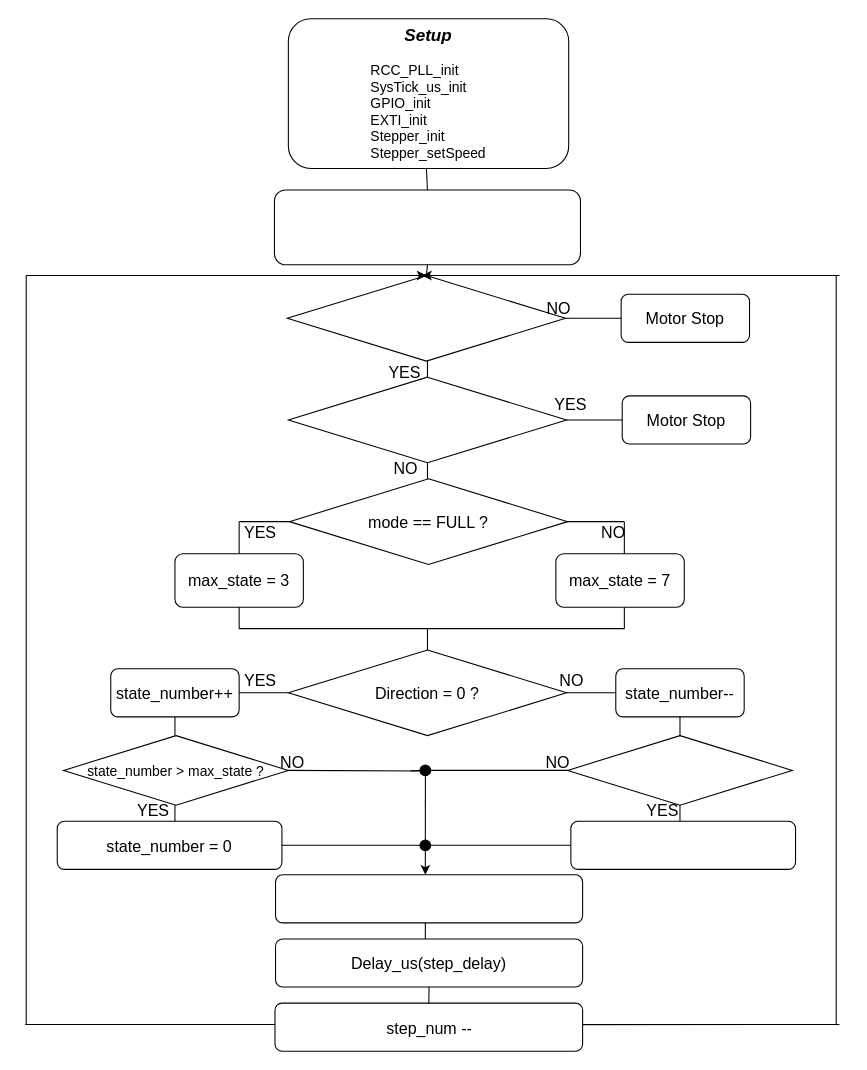
The diagram is 867 pixels wide and 1070 high, and some of its shapes have lost their labels. Each missing label, with the box of its shape:
Button Interrupt ?: (287, 376, 567, 463)
state_number < 0 ?: (567, 735, 792, 805)
state_number = max_state: (570, 820, 796, 869)
step_num > 0 ?: (286, 274, 565, 361)
Stepper_pinOut(state_number, mode): (274, 874, 583, 923)
Stepper_step (Step, Direction, Mode): (273, 189, 580, 265)
